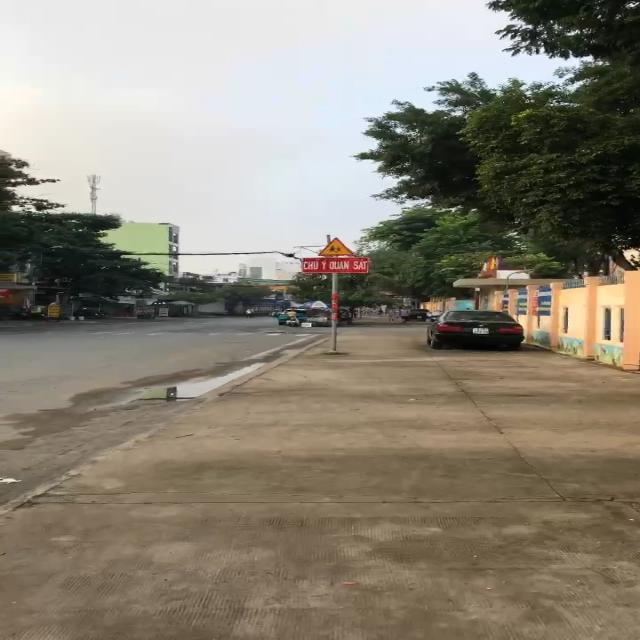Bien bao tre em: (316, 236, 359, 256)
